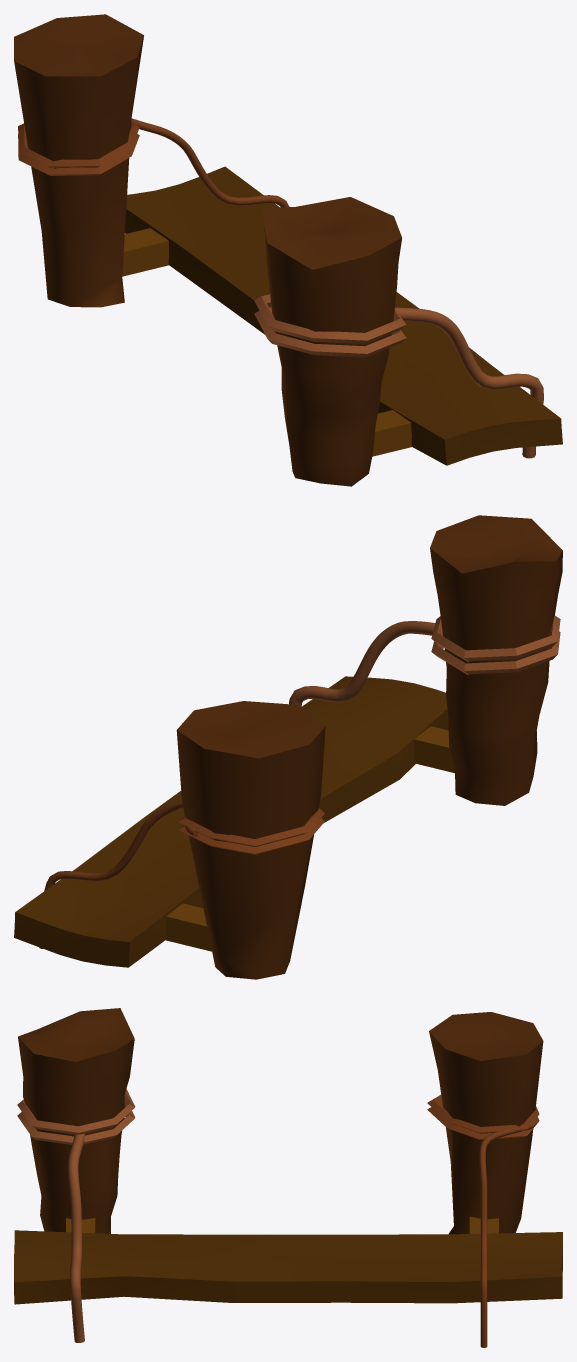
The model's file is lowPoly_BrockenBridge.fbx.
3 renders of one model, top to bottom at view 1: azimuth 30°, elevation 25°; view 2: azimuth 150°, elevation 25°; view 3: azimuth 270°, elevation 25°, orthographic. The views are drawn at different scales.
Visible parts, largest first — view 1: Cone001, Box003, Cone002, Line005, Line001, Line002, Box002, Line006, Box001, Line003, Line004; view 2: Cone002, Box003, Cone001, Line005, Line001, Box002, Line006, Line002, Box001, Line003, Line004; view 3: Box003, Cone001, Cone002, Line005, Line006, Line001, Line002, Line003, Line004.
Boxes of the visible parts, <box> form: Cone001: <box>260,197,401,486</box>; Box003: <box>125,166,562,465</box>; Cone002: <box>14,14,143,307</box>; Line005: <box>394,307,543,458</box>; Line001: <box>254,294,406,344</box>; Line002: <box>254,307,406,357</box>; Box002: <box>122,228,168,276</box>; Line006: <box>131,118,289,207</box>; Box001: <box>372,410,411,456</box>; Line003: <box>18,122,139,167</box>; Line004: <box>18,134,139,175</box>; Cone002: <box>176,701,325,979</box>; Box003: <box>14,676,448,967</box>; Cone001: <box>430,515,562,805</box>; Line005: <box>289,621,435,706</box>; Line001: <box>431,615,560,662</box>; Box002: <box>166,903,211,951</box>; Line006: <box>39,801,198,948</box>; Line002: <box>431,631,560,675</box>; Box001: <box>414,726,454,773</box>; Line003: <box>178,808,324,846</box>; Line004: <box>178,818,324,854</box>; Box003: <box>14,1230,562,1304</box>; Cone001: <box>18,1008,134,1233</box>; Cone002: <box>429,1012,543,1234</box>; Line005: <box>68,1133,84,1342</box>; Line006: <box>479,1120,536,1347</box>; Line001: <box>17,1089,135,1134</box>; Line002: <box>17,1106,135,1144</box>; Line003: <box>427,1095,539,1133</box>; Line004: <box>427,1101,539,1139</box>.
Bounding box in the file's own units: 35.91 × 35.78 × 75.12.
